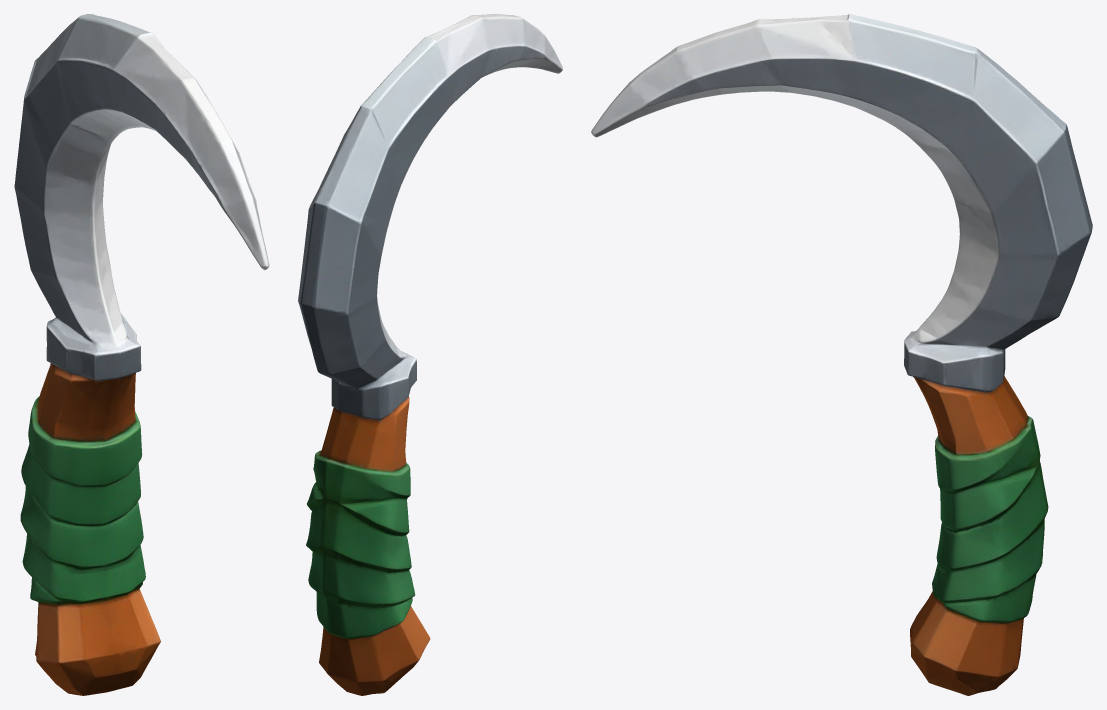
File: Yardsweep-MetalSickle.glb
3 renders of one model, left to right at view 1: azimuth 30°, elevation 25°; view 2: azimuth 150°, elevation 25°; view 3: azimuth 270°, elevation 25°, orthographic. The views are drawn at different scales.
Visible parts, largest first — view 1: tripo_node_964716b1-fa33-4aae-b550-0fa812d46b01; view 2: tripo_node_964716b1-fa33-4aae-b550-0fa812d46b01; view 3: tripo_node_964716b1-fa33-4aae-b550-0fa812d46b01.
Part boxes in pixels (x1,y1,x2,y2): tripo_node_964716b1-fa33-4aae-b550-0fa812d46b01: [14, 14, 269, 695]; tripo_node_964716b1-fa33-4aae-b550-0fa812d46b01: [298, 14, 562, 695]; tripo_node_964716b1-fa33-4aae-b550-0fa812d46b01: [591, 14, 1092, 695].
Bounding box in the file's own units: 0.1661 × 1 × 0.681.
Materials: 1 (1 with a texture image).
